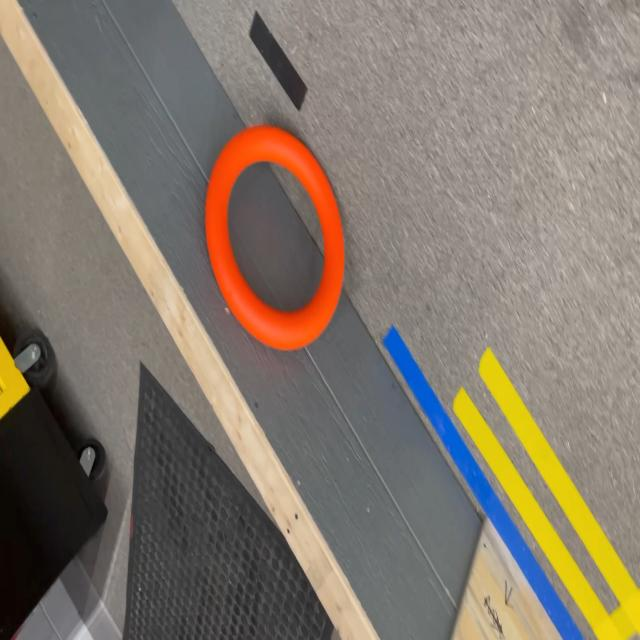note: (204, 126, 344, 351)
